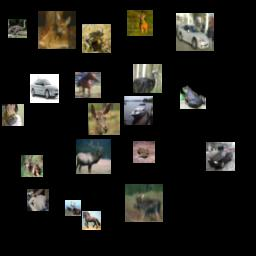automobile: (176, 13, 214, 51), (206, 142, 235, 171), (30, 74, 59, 103)
bird: (133, 64, 162, 93), (8, 19, 27, 38)
cat: (2, 104, 24, 126)
deer: (38, 11, 76, 49), (125, 184, 163, 222), (76, 139, 111, 174), (88, 103, 120, 135), (127, 10, 153, 36), (21, 155, 43, 177), (65, 200, 81, 216)
dog: (27, 189, 49, 211)
frog: (82, 24, 111, 53), (180, 83, 206, 109), (133, 141, 155, 163)
ship: (124, 96, 153, 125)
